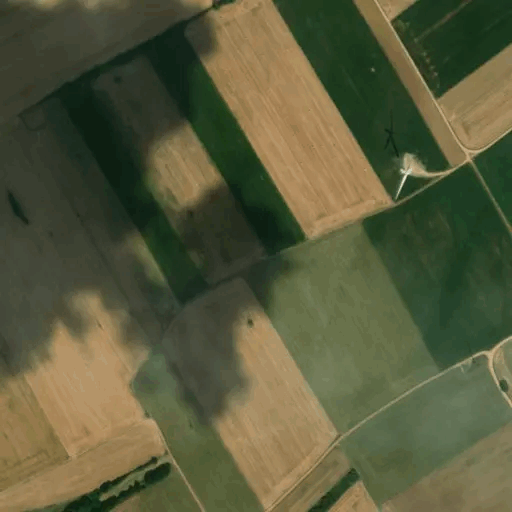wt: (369, 105, 419, 204)
